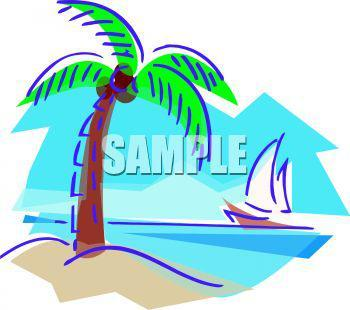boat: (217, 127, 317, 231)
